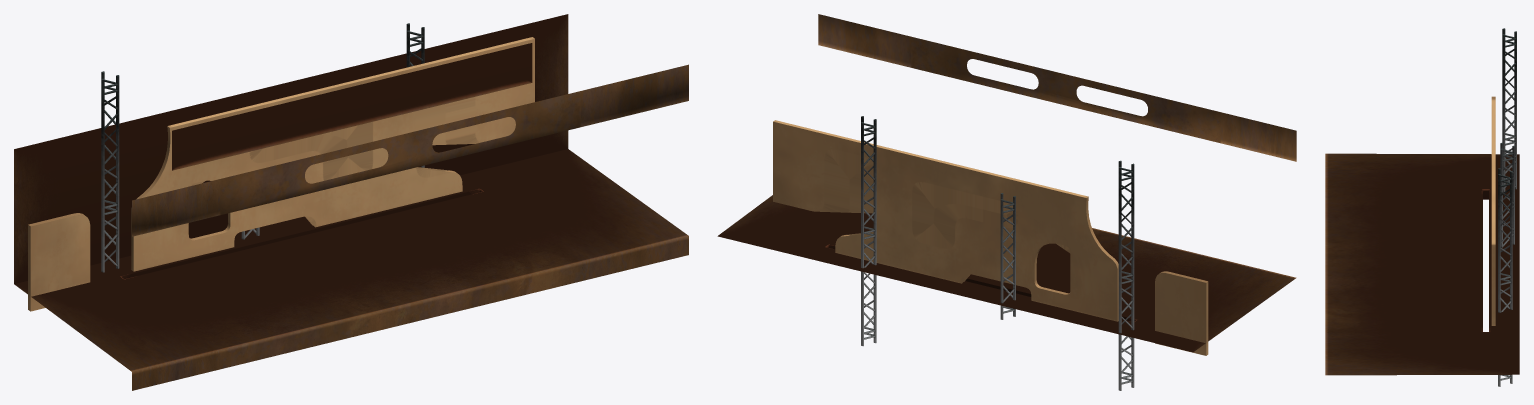
The model's file is Empty_Scene_VF.fbx.
3 renders of one model, left to right at view 1: azimuth 30°, elevation 25°; view 2: azimuth 150°, elevation 25°; view 3: azimuth 270°, elevation 25°, orthographic. The views are drawn at different scales.
Parts seen in each view (by area): view 1: Scene, Cube.002, Cube.008; view 2: Cube.002, Scene, Cube.008, Cube.001, Cube.005; view 3: Scene, Cube.001, Cube.008, Cube.002, Cube.005.
Boxes of the visible parts, x1,y1,x2,y2 form: Scene: (14,14,688,390); Cube.002: (28,37,534,311); Cube.008: (101,71,119,272); Cube.002: (773,120,1208,355); Scene: (717,14,1296,352); Cube.008: (1118,160,1134,390); Cube.001: (861,116,876,346); Cube.005: (1000,193,1015,319); Scene: (1325,153,1519,375); Cube.001: (1498,168,1512,386); Cube.008: (1502,28,1516,192); Cube.002: (1491,96,1495,325); Cube.005: (1500,142,1514,247).
Bounding box in the file's own units: 1337 × 649 × 495.
